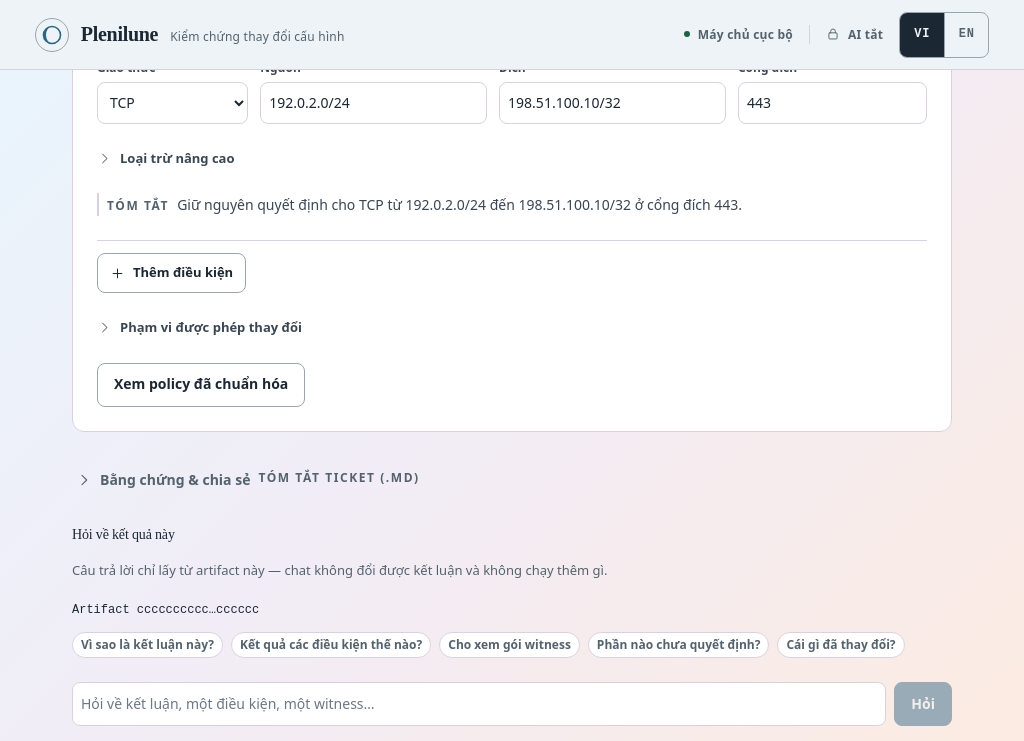
Test: P1-8 quick verdict path › (d) shows the contextual repair section for DIFFERENT with a violated obligation
(page scrolled)
Click the button "Xem policy đã chuẩn hóa" at [201, 385], box [97,363,305,407]
(page scrolled)
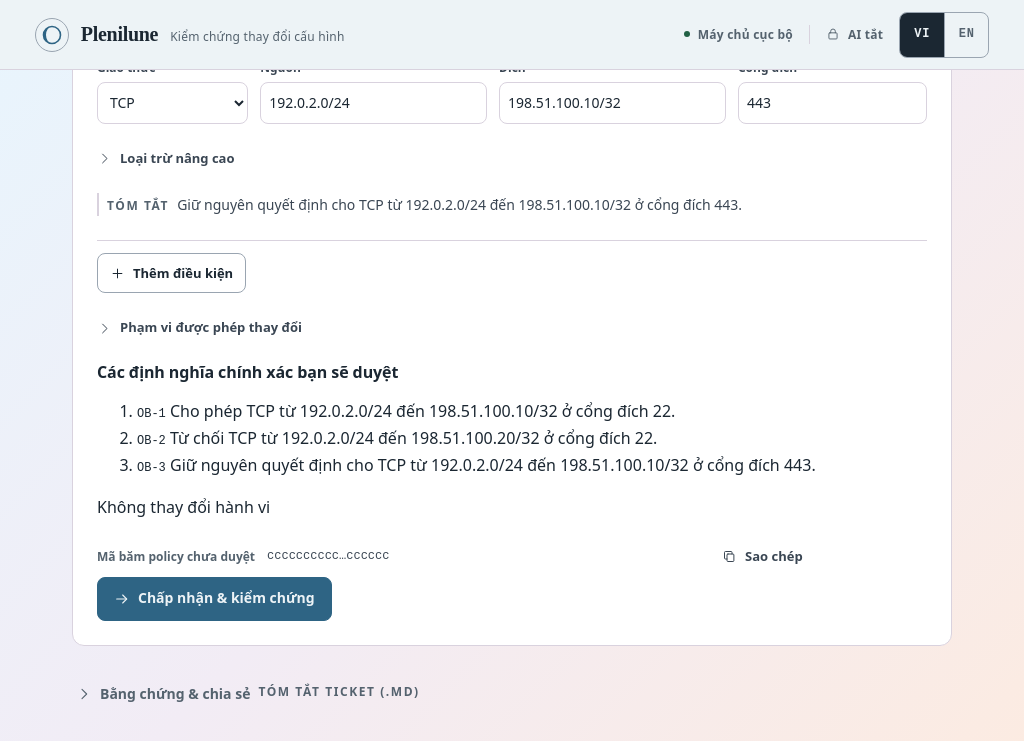
Check: the heading "Các định nghĩa chính xác bạn sẽ duyệt" is shown, box [97,361,398,383]
Click the button "Chấp nhận & kiểm chứng" at [214, 599], box [97,577,332,621]
(page scrolled)
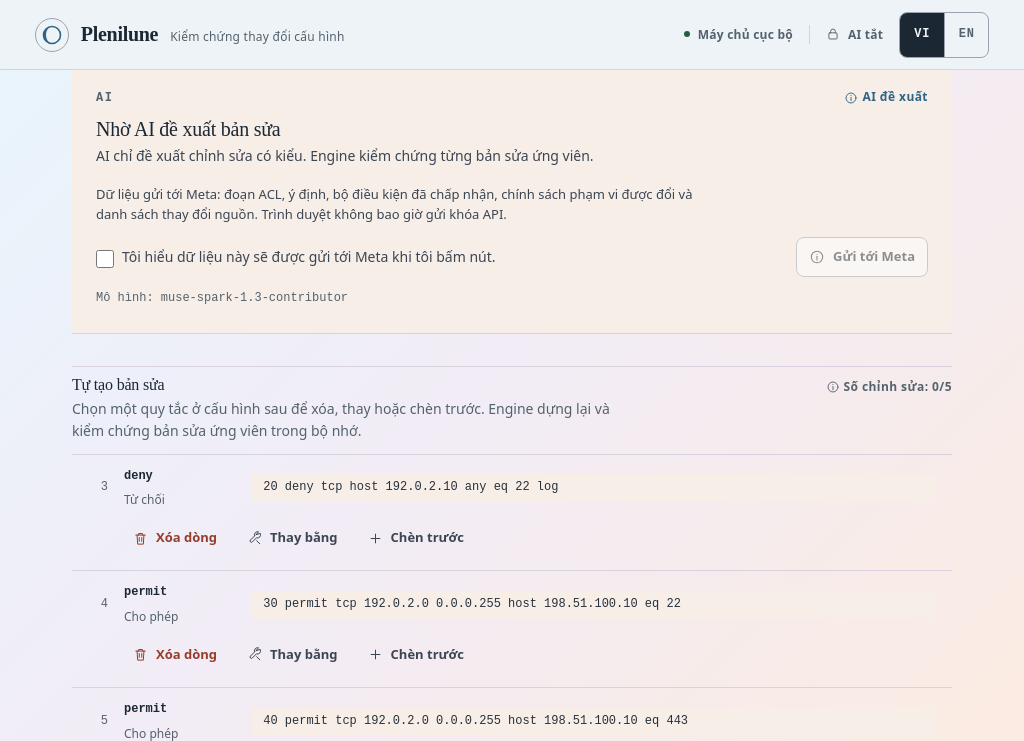
Check: the heading "Tự tạo bản sửa" is shown, box [72,376,164,393]
